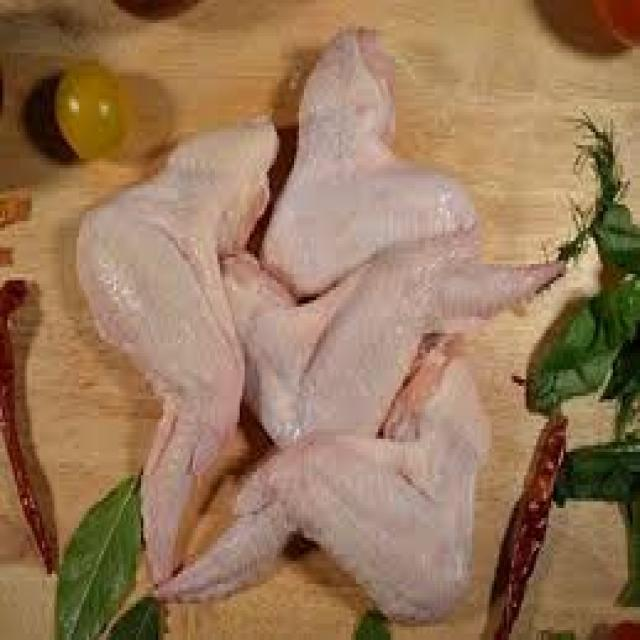wing: (178, 334, 486, 616), (75, 110, 260, 552), (220, 235, 544, 430), (268, 13, 478, 268)
